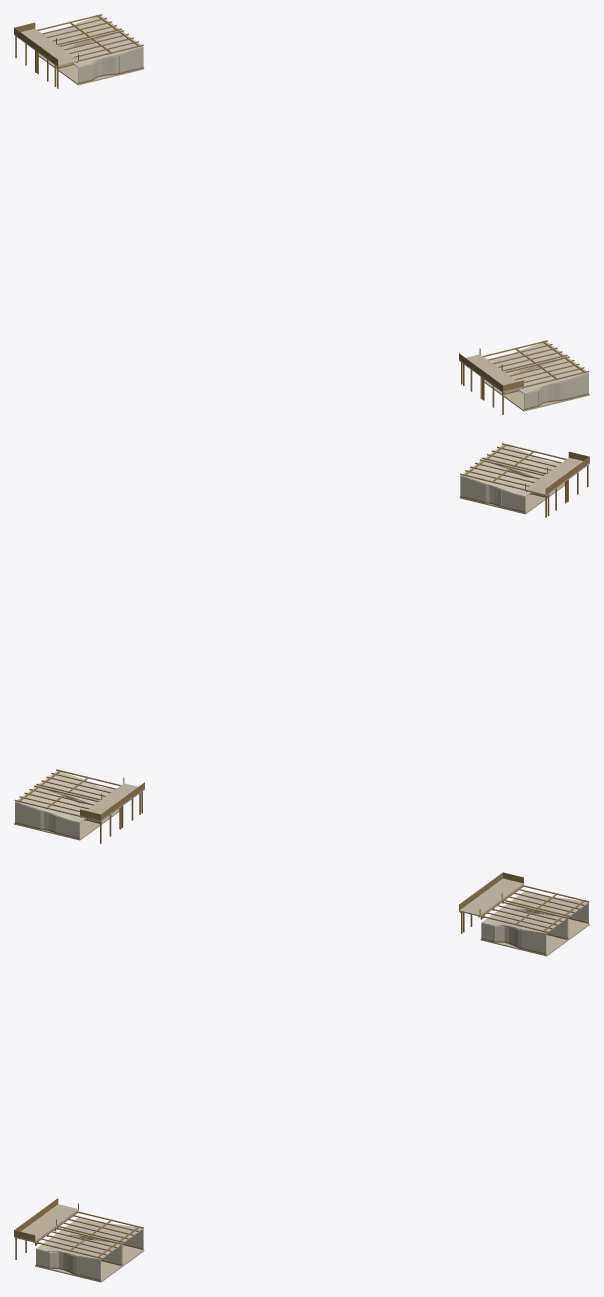
The model's file is StarAtlasSpecialtyThirdReceiving.glb.
3 renders of one model, top to bottom at view 1: azimuth 30°, elevation 25°; view 2: azimuth 150°, elevation 25°; view 3: azimuth 330°, elevation 25°, orthographic.
Visible parts, largest first — view 1: SA_D15_North_ThirdStreetFloor, SA_D15_South_ThirdStreetFloor; view 2: SA_D15_South_ThirdStreetFloor, SA_D15_North_ThirdStreetFloor; view 3: SA_D15_North_ThirdStreetFloor, SA_D15_South_ThirdStreetFloor.
Boxes of the visible parts, bbox=[...] form: SA_D15_North_ThirdStreetFloor: bbox=[14, 28, 78, 66]; SA_D15_South_ThirdStreetFloor: bbox=[459, 354, 523, 392]; SA_D15_South_ThirdStreetFloor: bbox=[525, 457, 589, 495]; SA_D15_North_ThirdStreetFloor: bbox=[80, 783, 144, 821]; SA_D15_North_ThirdStreetFloor: bbox=[459, 878, 523, 916]; SA_D15_South_ThirdStreetFloor: bbox=[14, 1204, 78, 1242].
Bounding box in the file's own units: 17 × 5.82 × 165.
10 materials, 10 textured.
